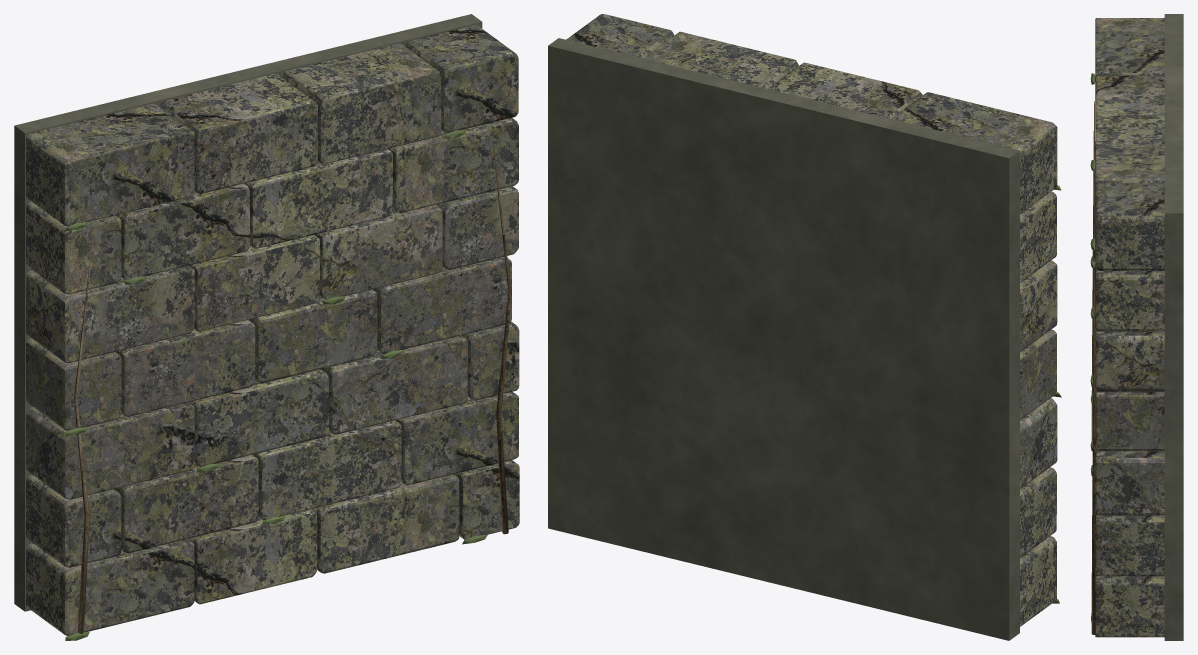
Rendered from v6_wall_b.glb.
3 renders of one model, left to right at view 1: azimuth 30°, elevation 25°; view 2: azimuth 150°, elevation 25°; view 3: azimuth 270°, elevation 25°, orthographic. The views are drawn at different scales.
Visible parts, largest first — view 1: sacred_weathered_stone_surface, sacred_earth_mortar_surface, sacred_root_bark_surface, sacred_velvet_moss_surface; view 2: sacred_earth_mortar_surface, sacred_weathered_stone_surface; view 3: sacred_weathered_stone_surface, sacred_earth_mortar_surface, sacred_root_bark_surface, sacred_velvet_moss_surface.
Part boxes in pixels (bbox=[...]): sacred_weathered_stone_surface: bbox=[26, 25, 519, 635]; sacred_earth_mortar_surface: bbox=[14, 14, 482, 611]; sacred_root_bark_surface: bbox=[74, 141, 511, 633]; sacred_velvet_moss_surface: bbox=[63, 130, 487, 640]; sacred_earth_mortar_surface: bbox=[548, 38, 1019, 640]; sacred_weathered_stone_surface: bbox=[566, 14, 1057, 626]; sacred_weathered_stone_surface: bbox=[1095, 18, 1164, 637]; sacred_earth_mortar_surface: bbox=[1164, 14, 1183, 640]; sacred_root_bark_surface: bbox=[1091, 101, 1096, 634]; sacred_velvet_moss_surface: bbox=[1090, 73, 1095, 622].
Bounding box in the file's own units: 4.02 × 4.02 × 0.7886.
Materials: 4 (4 with a texture image).
